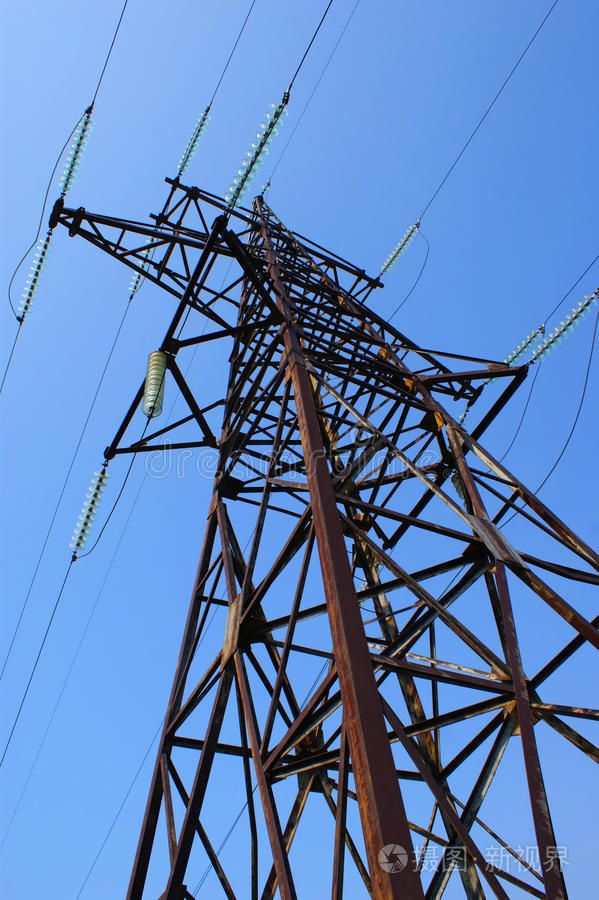insulator: (227, 102, 287, 202), (530, 292, 592, 365), (70, 470, 107, 552), (17, 237, 51, 314), (59, 108, 91, 189), (380, 223, 417, 277), (179, 112, 212, 168), (145, 351, 166, 417)
